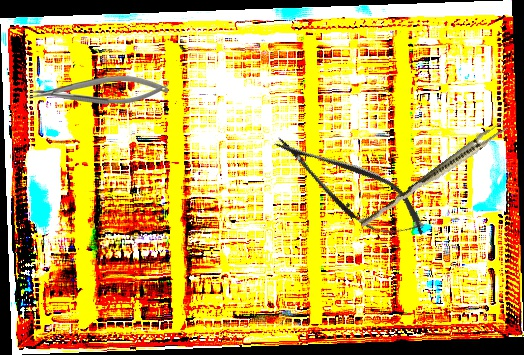Micro Scissor: (261, 118, 438, 256)
Needle Holder: (29, 75, 168, 105)
Tissue Forceps: (358, 117, 509, 233)
